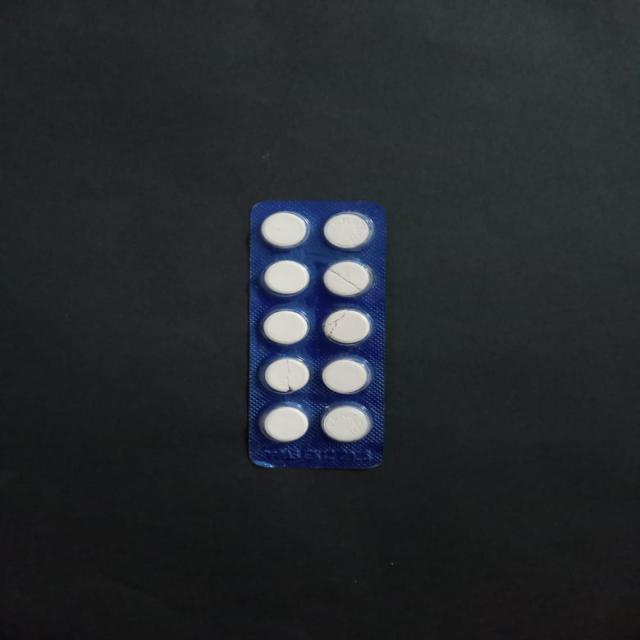defect: (321, 258, 374, 299), (260, 355, 312, 395), (322, 308, 373, 348)
